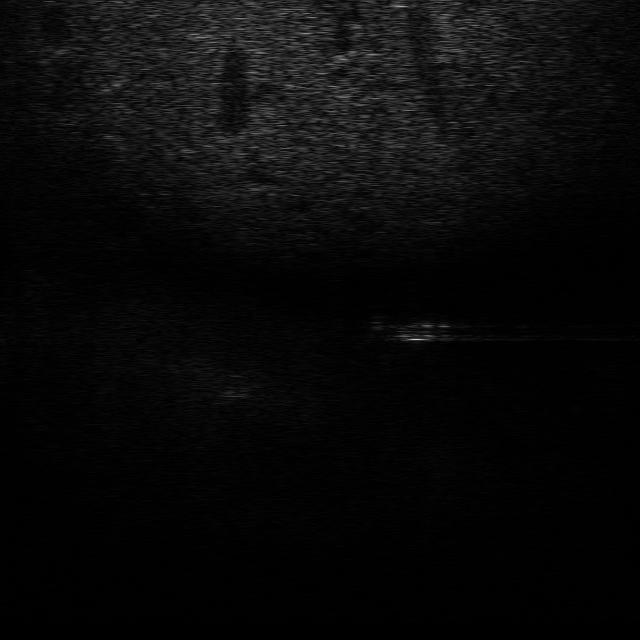ball: (205, 367, 253, 397)
human body: (354, 310, 464, 348)
